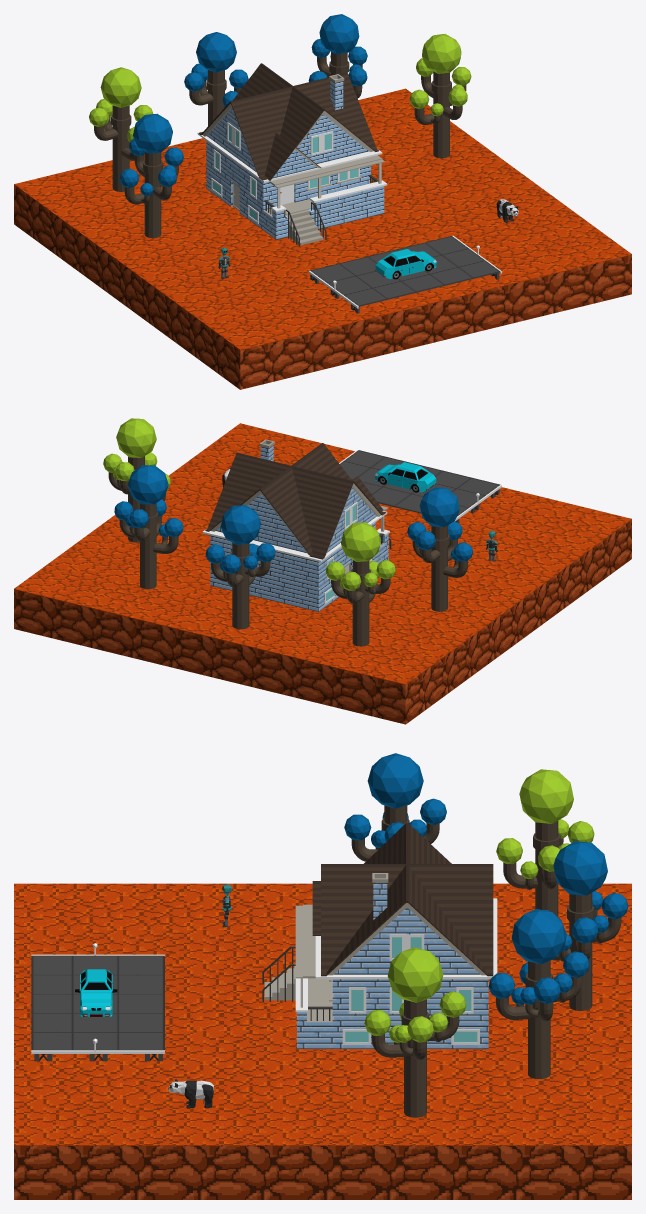
3 views of the same model, one above another, from view 1: azimuth 30°, elevation 25°; view 2: azimuth 150°, elevation 25°; view 3: azimuth 270°, elevation 25° (orthographic). The views are drawn at different scales.
Visible parts, largest first — view 1: Cube.001, Cube.547, VEHICLES_CAR; view 2: Cube.001, Cube.547, VEHICLES_CAR; view 3: Cube.001, Cube.547, VEHICLES_CAR, ANIMAL_PANDA.
Part boxes in pixels (x1,y1,x2,y2): Cube.001: [14, 14, 631, 389]; Cube.547: [197, 63, 387, 246]; VEHICLES_CAR: [375, 249, 436, 279]; Cube.001: [14, 418, 631, 724]; Cube.547: [202, 439, 391, 611]; VEHICLES_CAR: [374, 462, 436, 492]; Cube.001: [14, 753, 631, 1199]; Cube.547: [262, 823, 497, 1048]; VEHICLES_CAR: [75, 969, 117, 1016]; ANIMAL_PANDA: [168, 1079, 213, 1108].
Size of the model in its own units: 4000 by 1687 by 4000.
34 materials, 6 textured.
